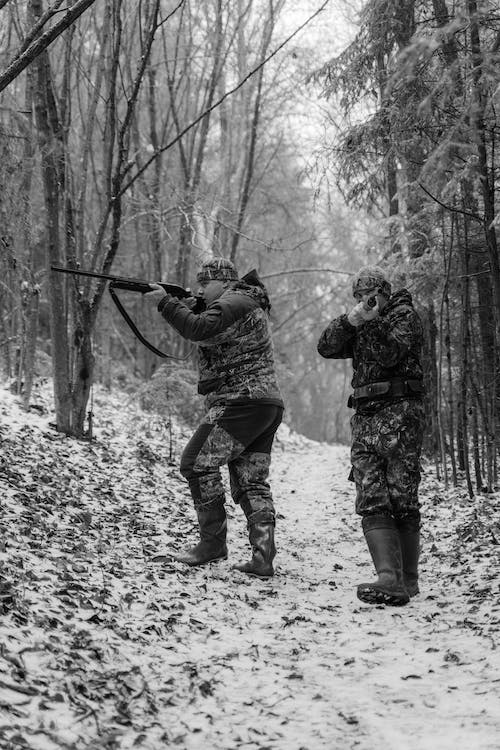gun: (48, 261, 207, 317), (362, 293, 379, 312)
